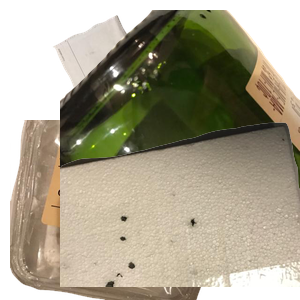glass: (60, 10, 300, 190)
paper: (51, 13, 230, 186)
plastic: (10, 120, 227, 300)
trash: (60, 120, 300, 300)
